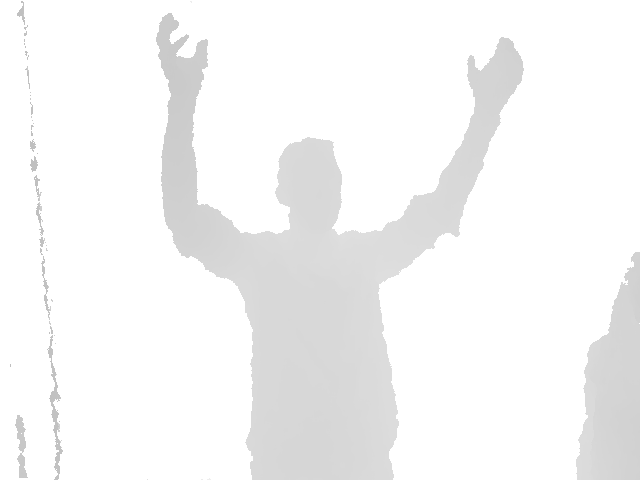hand: (466, 36, 525, 116), (156, 13, 208, 90)
head: (276, 137, 342, 229)
person: (156, 13, 525, 480)
